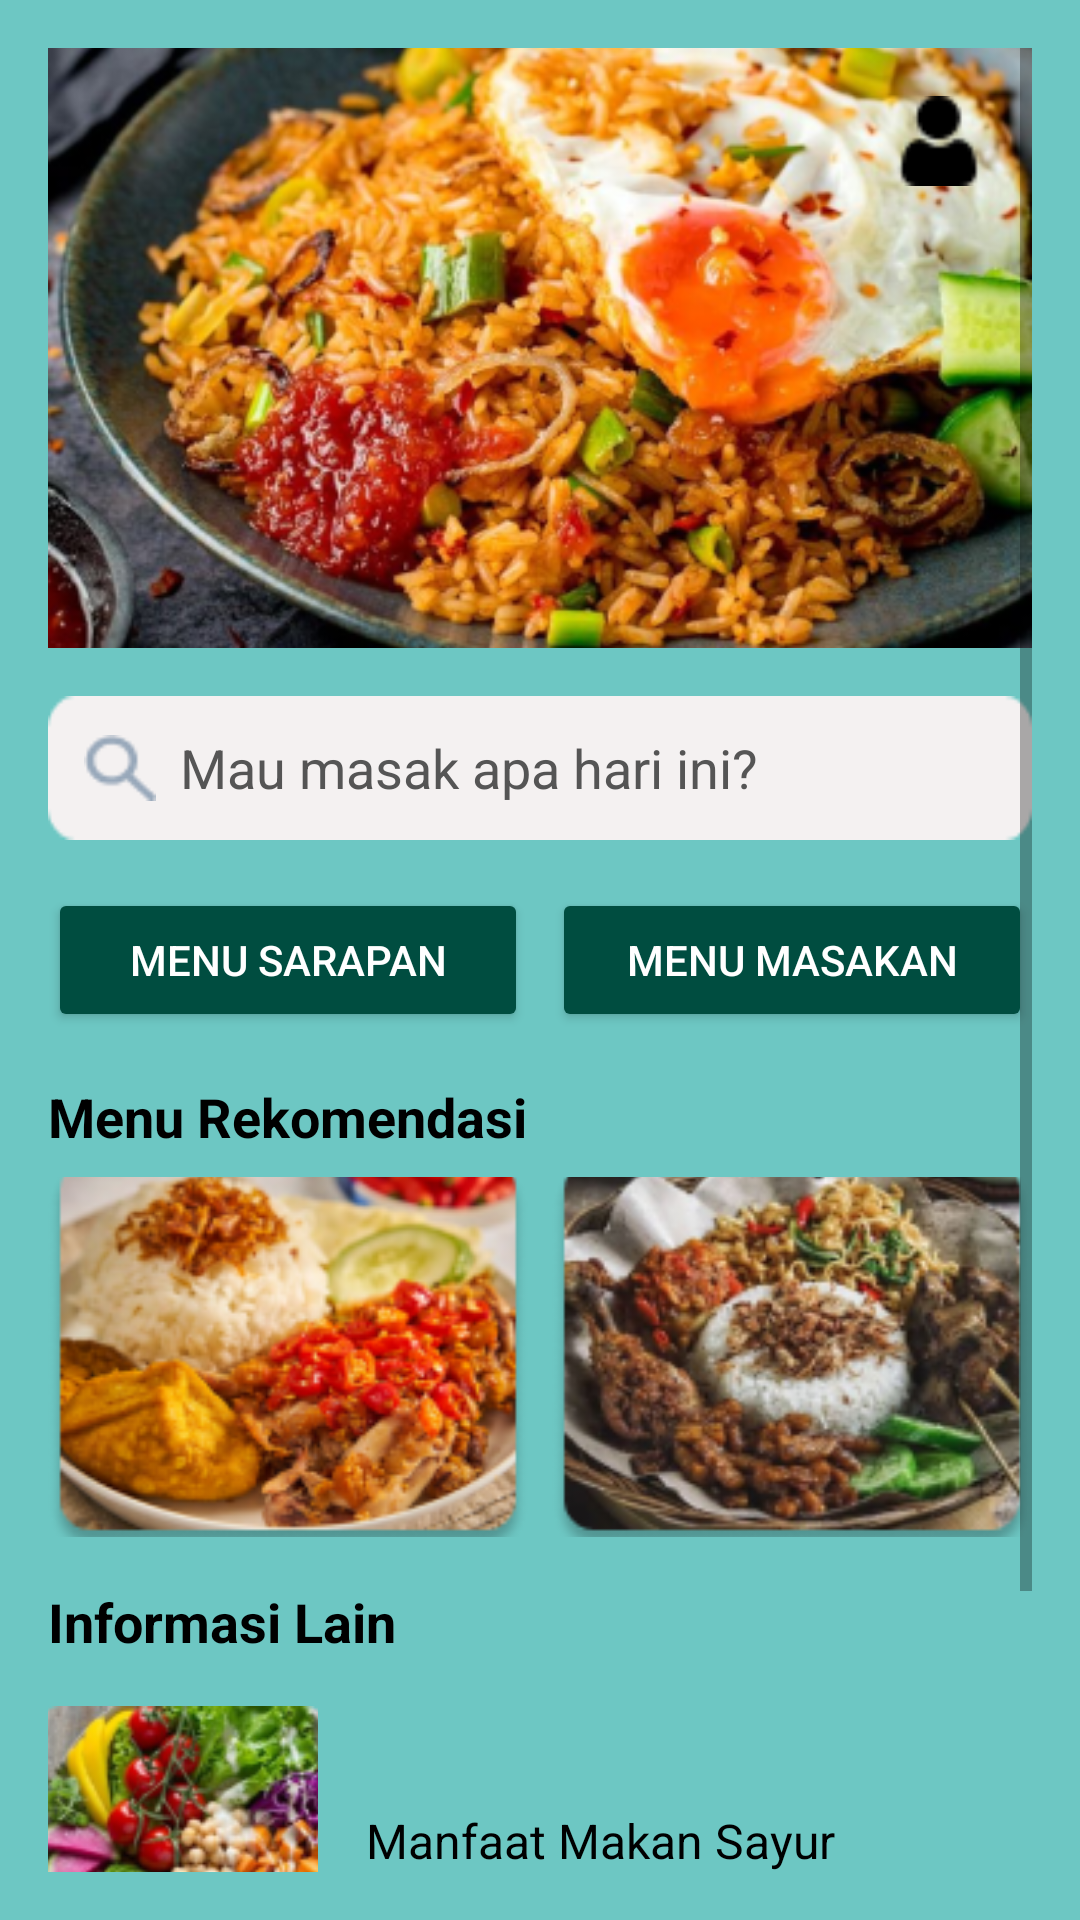

Named icons in this screenshot (1080px x 1920px) and their centers, [x,y]:
user: [939,141]
